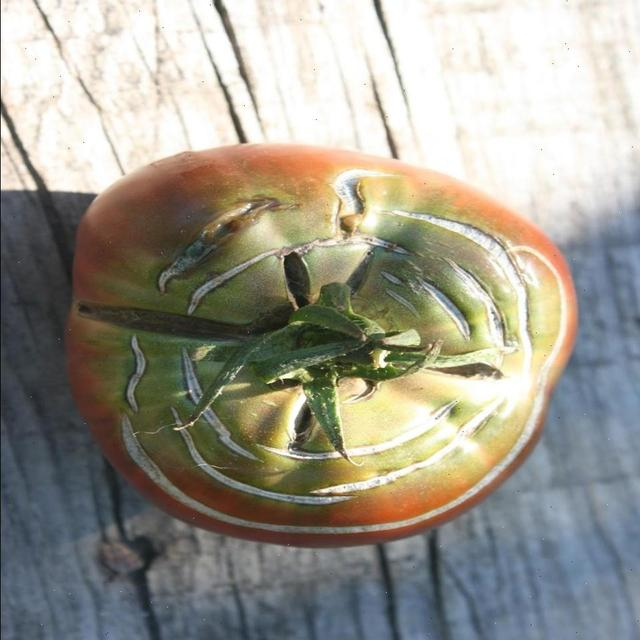Cracking Fruit: (74, 116, 380, 356)
